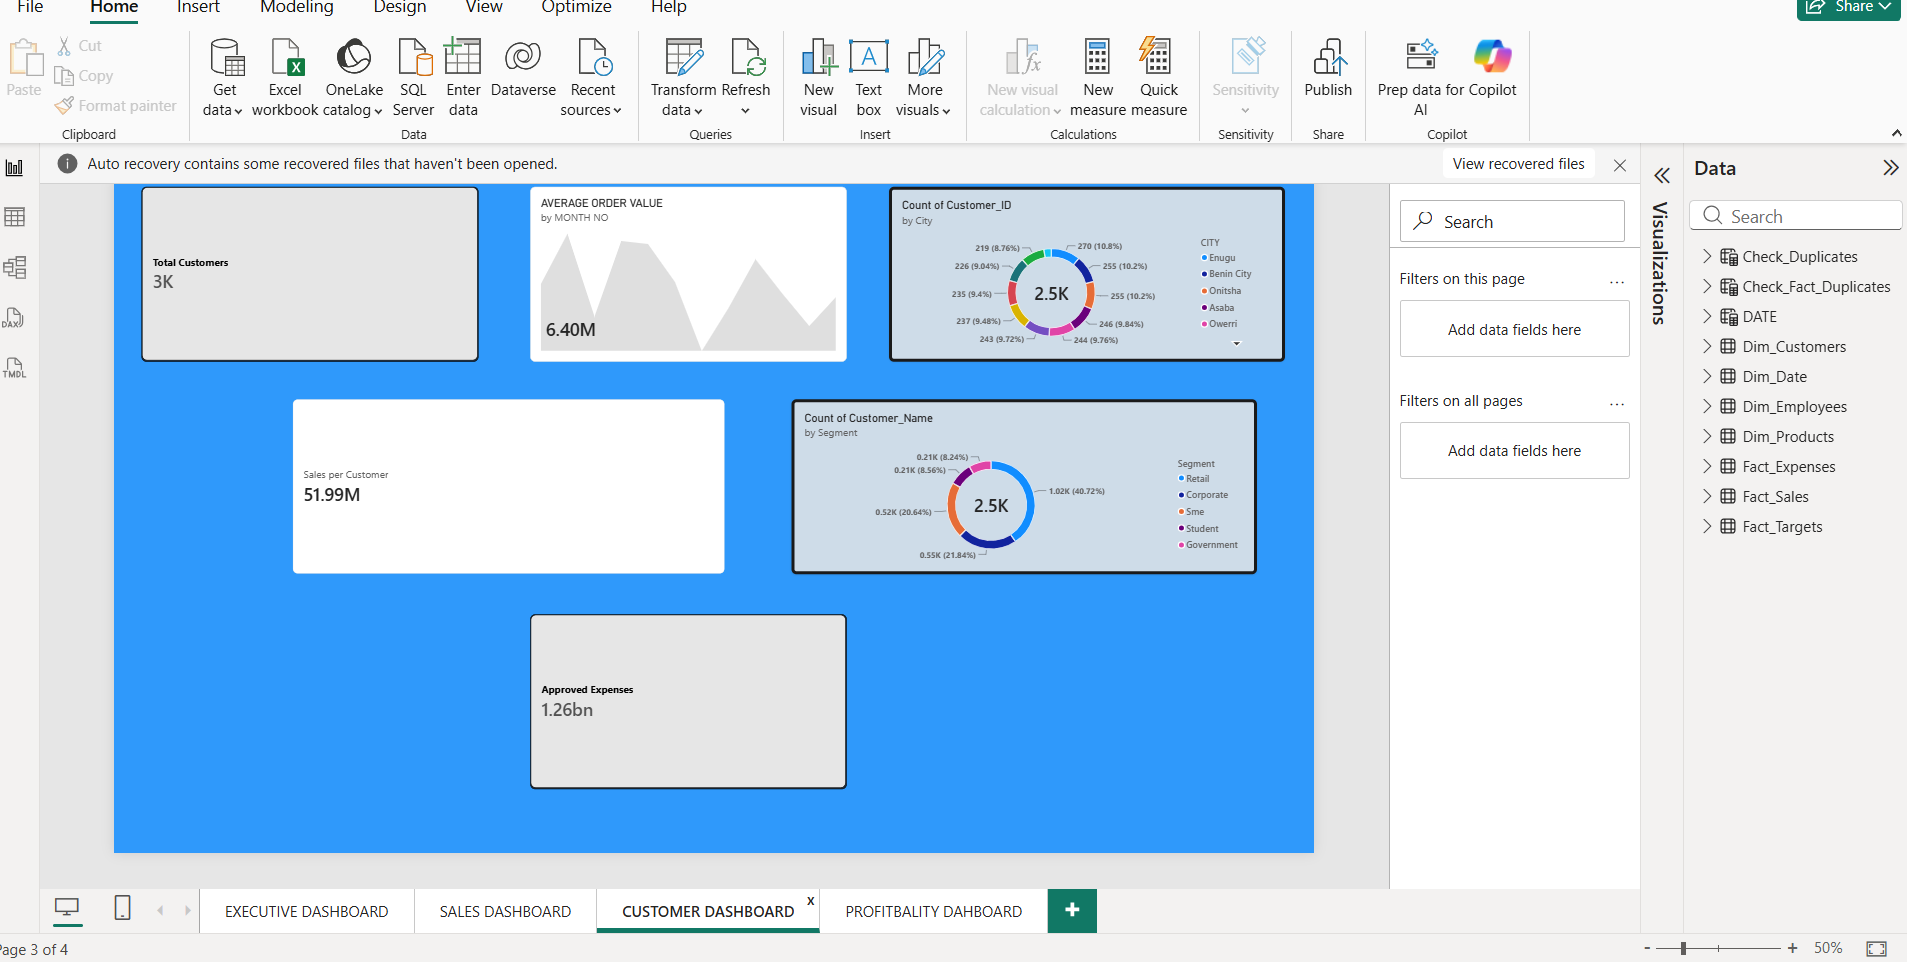

The page's visual inventory and layout, read from the dashboard file:
{"tool":"powerbi","page":{"name":"CUSTOMER DASHBOARD ","canvas":[1920,1080],"ordinal":2},"visuals":[{"type":"kpi","fields":{"Indicator":["DATE.AVERAGE ORDER VALUE"],"TrendLine":["DATE.MONTH NO"]},"box":[666.9,14.4,506.3,279.9],"z":0},{"type":"donutChart","fields":{"Category":["Dim_Customers.City"],"Y":["CountNonNull(Dim_Customers.Customer_ID)"]},"box":[1239.1,14.4,634,279.9],"z":1000},{"type":"donutChart","fields":{"Category":["Dim_Customers.Segment"],"Y":["CountNonNull(Dim_Customers.Customer_Name)"]},"box":[1084.7,354,745.1,279.9],"z":2000},{"type":"cardVisual","fields":{"Data":["DATE.Approved Expenses"]},"box":[666.9,697.8,506.3,279.9],"z":3000},{"type":"cardVisual","fields":{"Data":["DATE.Total Customers"]},"box":[43.2,14.4,539.3,279.9],"z":4000},{"type":"cardVisual","fields":{"Data":["Check_Duplicates.Sales per Customer"]},"box":[286.1,354,691.6,279.9],"z":4001}]}

Visuals, with their boxes on the page's 1920x1080 design canvas (x1, y1, x2, y2). These are canvas units, not pixel positions in the 1907x962 screenshot, which may show the page scaled, cropped or inside an application window:
kpi - DATE.AVERAGE ORDER VALUE x DATE.MONTH NO: crop(667, 14, 1173, 294)
donutChart - Dim_Customers.City x CountNonNull(Dim_Customers.Customer_ID): crop(1239, 14, 1873, 294)
donutChart - Dim_Customers.Segment x CountNonNull(Dim_Customers.Customer_Name): crop(1085, 354, 1830, 634)
cardVisual - DATE.Approved Expenses: crop(667, 698, 1173, 978)
cardVisual - DATE.Total Customers: crop(43, 14, 582, 294)
cardVisual - Check_Duplicates.Sales per Customer: crop(286, 354, 978, 634)
